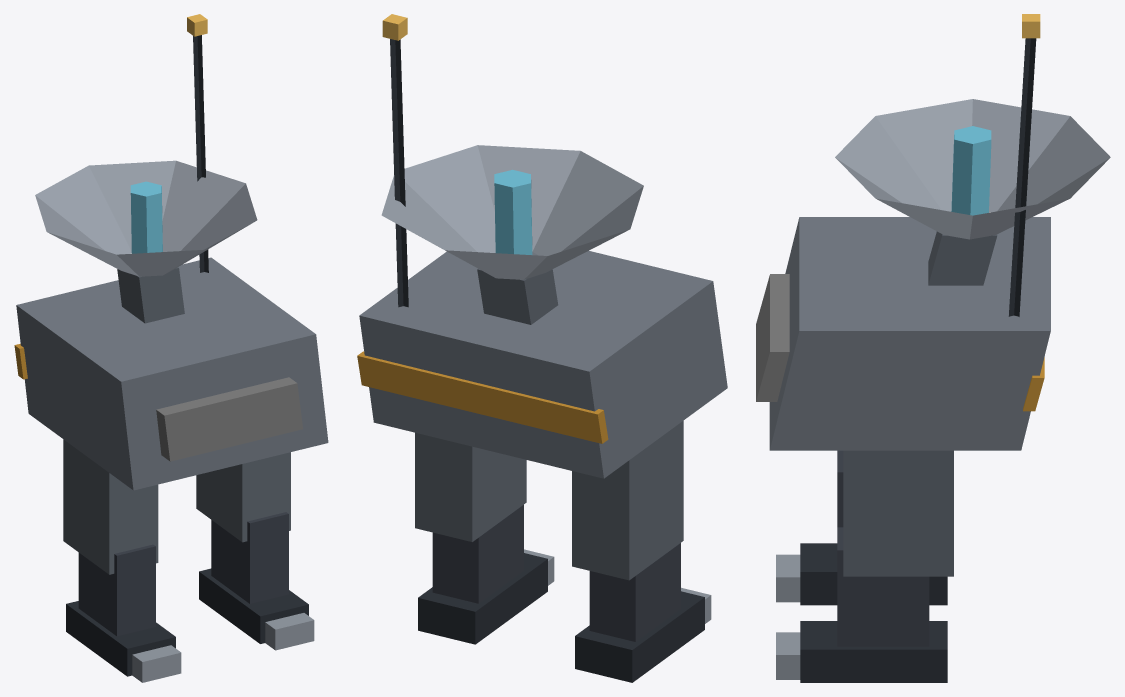
File: hound-attack-1.obj
3 views of the same model, side by side, from view 1: azimuth 30°, elevation 25°; view 2: azimuth 150°, elevation 25°; view 3: azimuth 270°, elevation 25° (orthographic). The views are drawn at different scales.
Parts seen in each view (by area): view 1: hound-attack-1; view 2: hound-attack-1; view 3: hound-attack-1.
Boxes of the visible parts, bbox=[...] form: hound-attack-1: bbox=[14, 14, 328, 682]; hound-attack-1: bbox=[357, 14, 727, 682]; hound-attack-1: bbox=[756, 14, 1110, 682].
Bounding box in the file's own units: 0.92 × 2.36 × 1.16.
